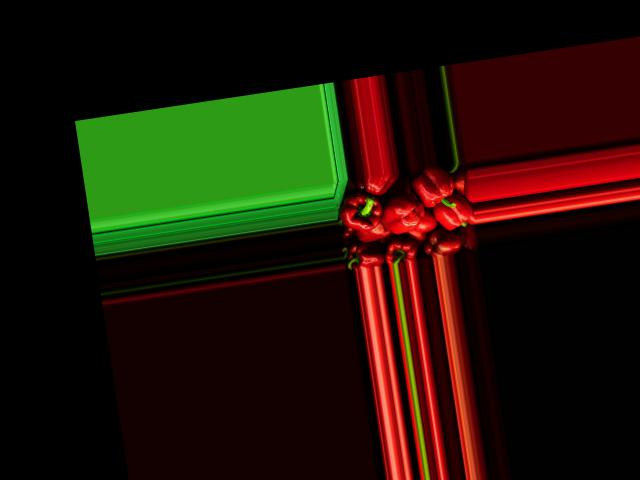bell_pepper: (343, 239, 383, 270)
